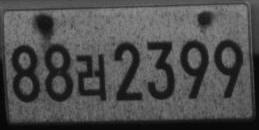2: (113, 41, 143, 100)
3: (146, 40, 175, 99)
8: (43, 43, 73, 102), (11, 44, 40, 103)
9: (179, 39, 209, 99), (213, 38, 243, 98)
러: (76, 53, 107, 101)
